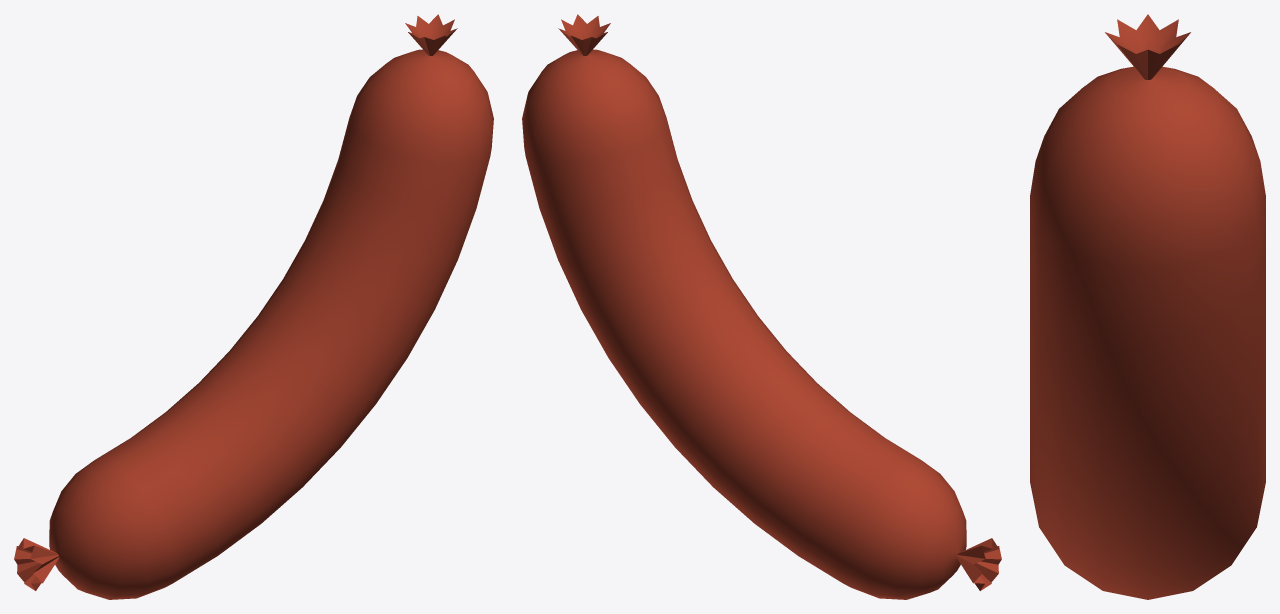
File: banana_single.fbx
3 views of the same model, side by side, from view 1: azimuth 30°, elevation 25°; view 2: azimuth 150°, elevation 25°; view 3: azimuth 270°, elevation 25° (orthographic). The views are drawn at different scales.
Parts seen in each view (by area): view 1: OBJ_BANANA_ENDING.002; view 2: OBJ_BANANA_ENDING.002; view 3: OBJ_BANANA_ENDING.002.
Part boxes in pixels (x1,y1,x2,y2): OBJ_BANANA_ENDING.002: (14,14,493,599); OBJ_BANANA_ENDING.002: (522,14,1001,599); OBJ_BANANA_ENDING.002: (1030,14,1265,599).
Bounding box in the file's own units: 108 × 110 × 30.07.
